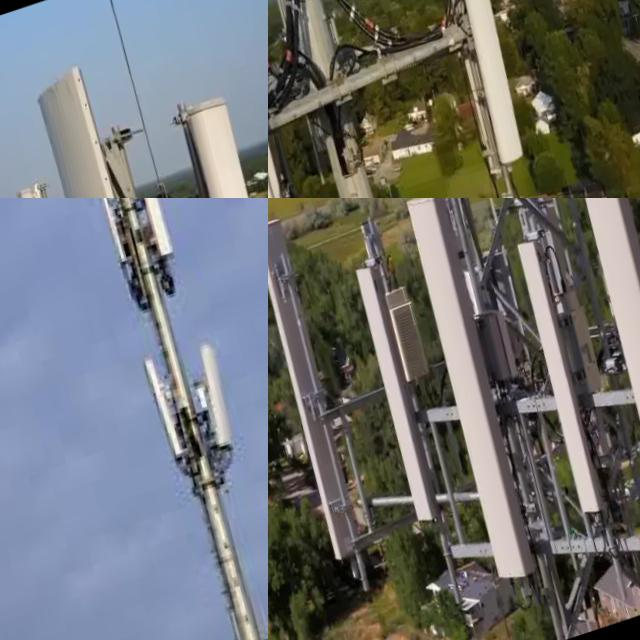GSM Antenna: (373, 198, 580, 610), (493, 224, 640, 538), (268, 208, 390, 578), (0, 46, 268, 198), (478, 198, 640, 443), (334, 255, 466, 534), (549, 198, 640, 590), (381, 0, 572, 183), (268, 0, 363, 198), (414, 198, 512, 360), (147, 80, 268, 198), (134, 346, 206, 479), (187, 337, 255, 454), (87, 198, 138, 280), (131, 198, 182, 264)
